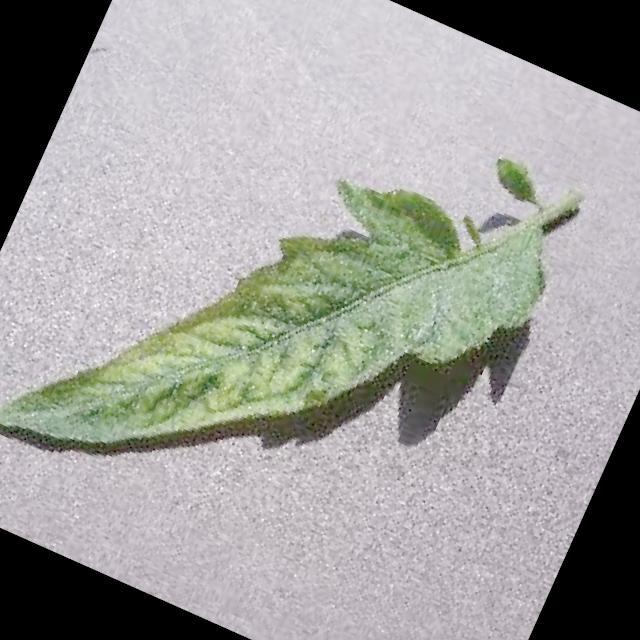Tomato mosaic virus leaf: (0, 50, 567, 610)
